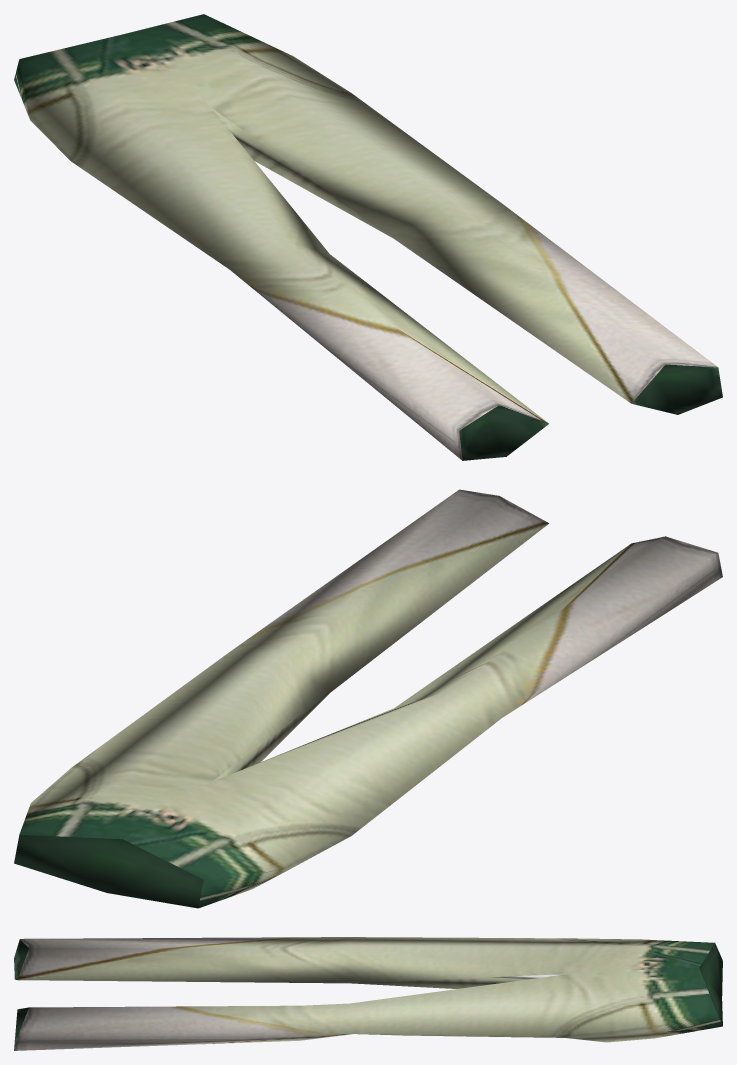
Rendered from f_Legs2.glb.
3 renders of one model, top to bottom at view 1: azimuth 30°, elevation 25°; view 2: azimuth 150°, elevation 25°; view 3: azimuth 270°, elevation 25°, orthographic. The views are drawn at different scales.
Parts seen in each view (by area): view 1: Legs2; view 2: Legs2; view 3: Legs2.
Boxes of the visible parts, x1,y1,x2,y2 form: Legs2: (14, 14, 722, 460); Legs2: (14, 489, 722, 908); Legs2: (14, 937, 722, 1050).
Size of the model in its own units: 19.35 by 3.79 by 58.18.
Materials: 1 (1 with a texture image).
